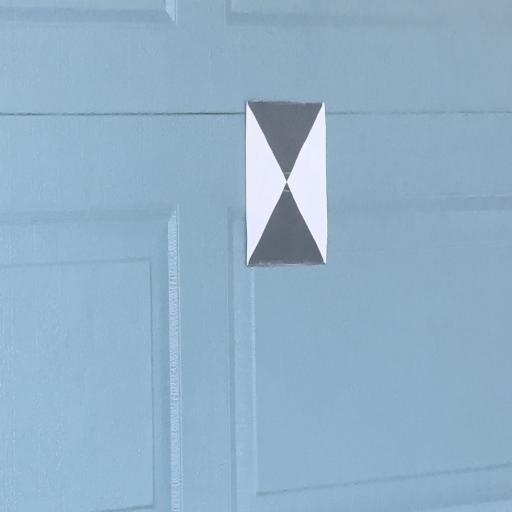target: (246, 102, 325, 264)
